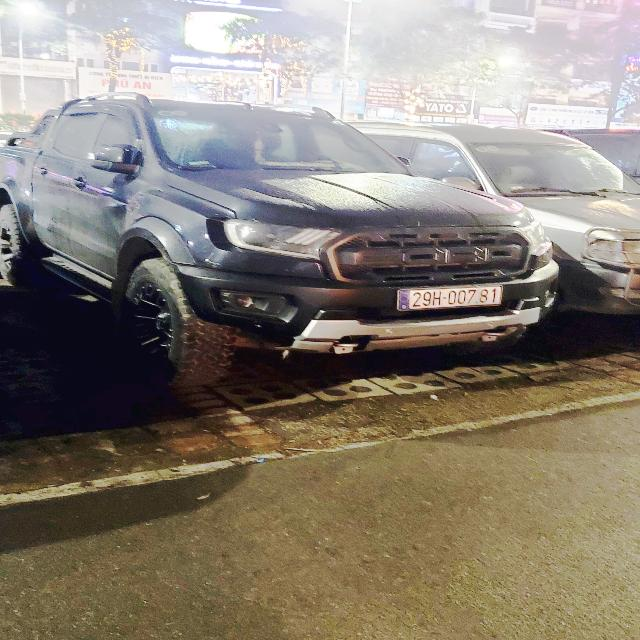license_plate: (397, 286, 505, 313)
